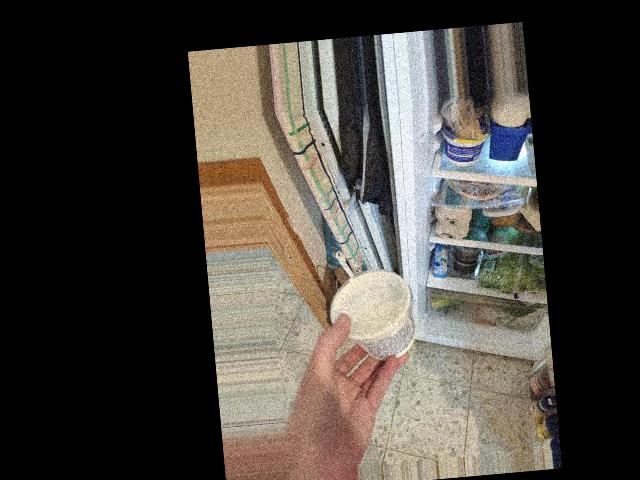cotage: (335, 268, 412, 357)
